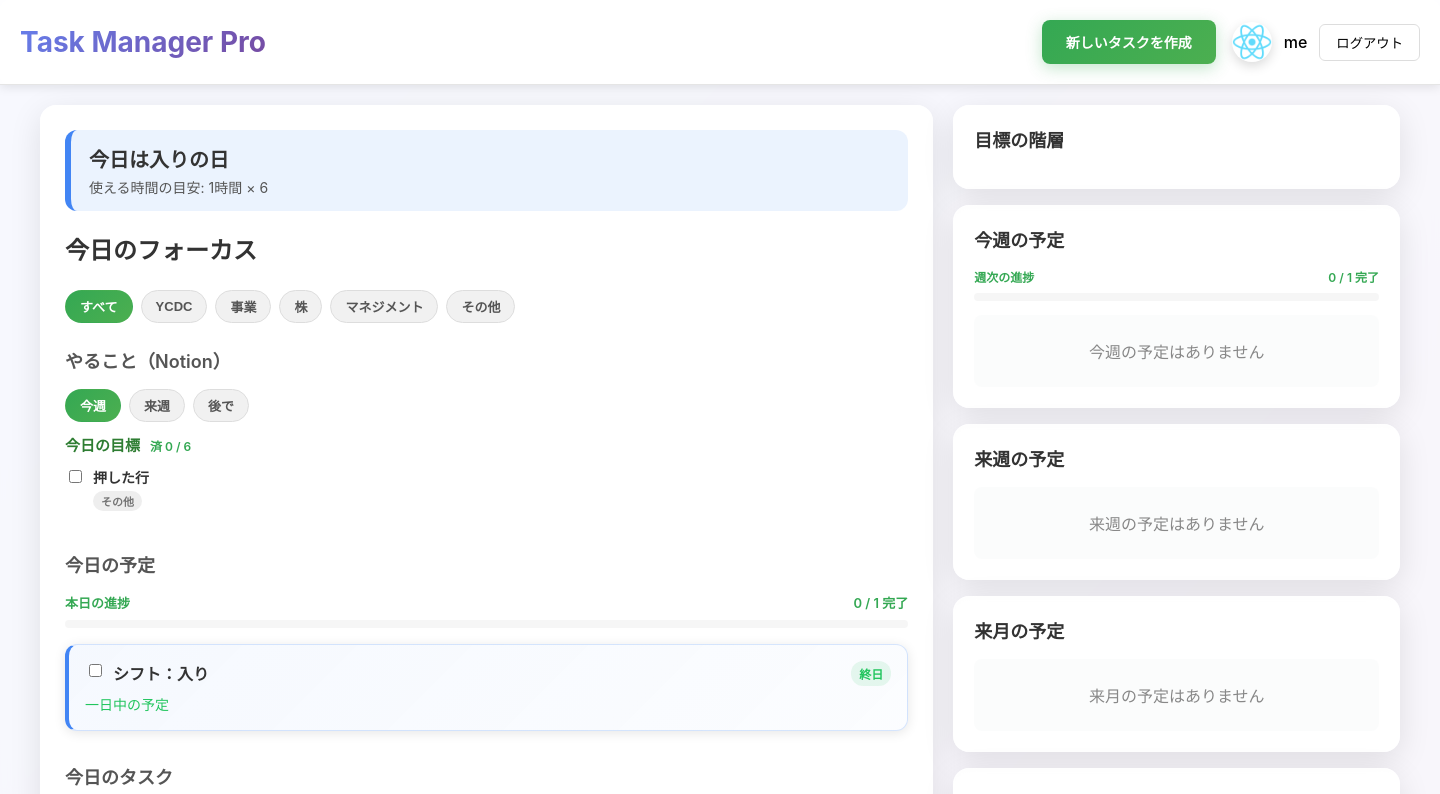
after a read the real last-edited time of Notion is used (a row checked here counts as done today until then)
Click the checkbox named "押した行" at (76, 476), box x1=69 y1=470 x2=82 y2=483
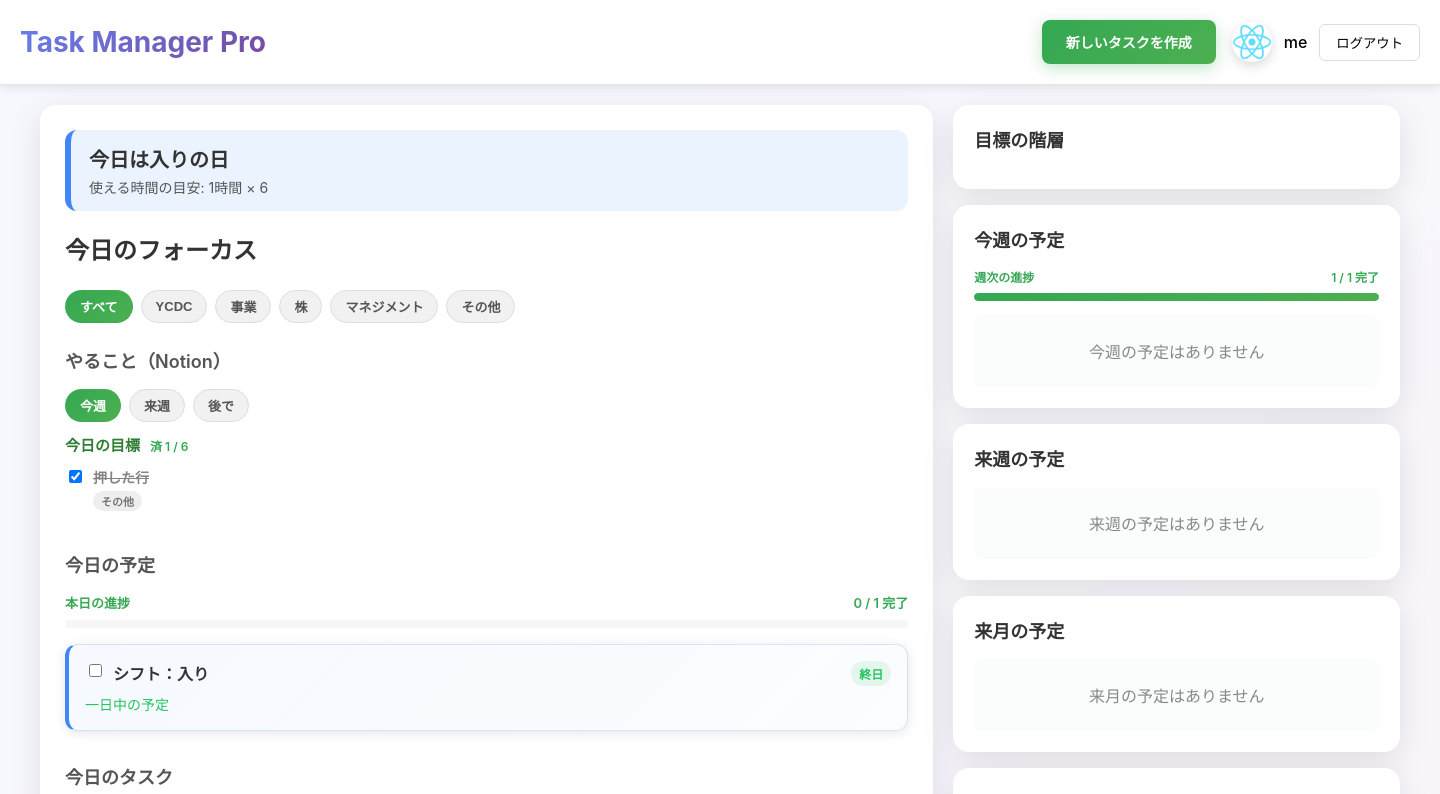
Expected: the checkbox named "押した行" is checked, x1=69 y1=470 x2=82 y2=483
Expected: the text "済 1 / 6" is shown, x1=150 y1=437 x2=188 y2=454
